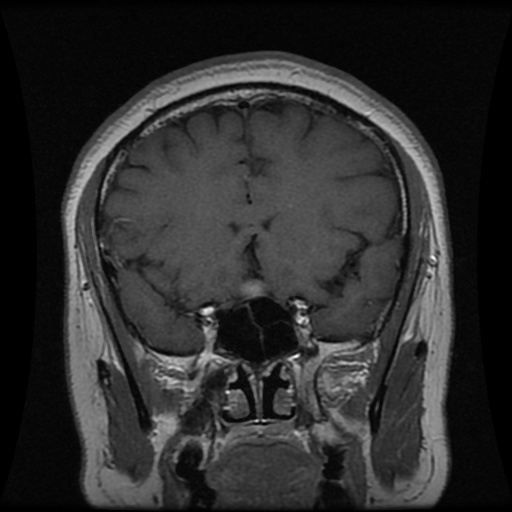pituitary: (237, 277, 269, 301)
